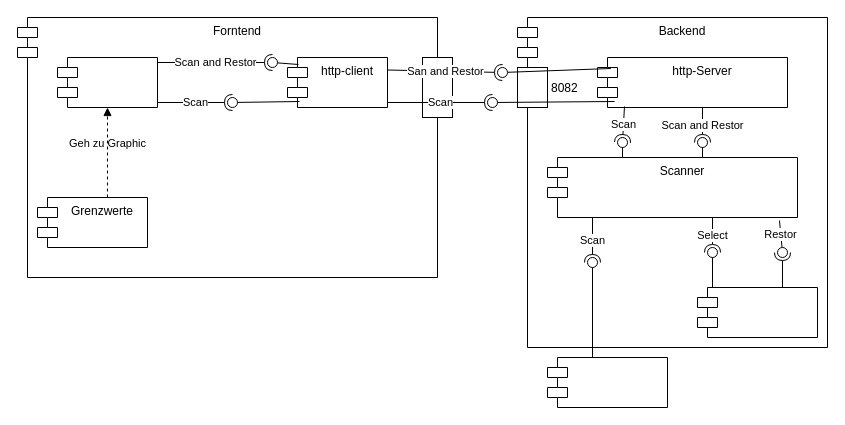
This 845x425 diagram has some shape labels left out. The shapes that lost their labels are listed below. From the top down, each one's centre as x and y in pixels, then its label:
At [107,82]: "Graphic-page".
At [437,87]: "port1".
At [757,312]: "Datenbank".
At [607,382]: "Textdatei".
